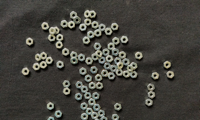nut: (41, 22, 50, 30), (22, 68, 30, 76), (26, 38, 34, 46), (40, 52, 48, 60), (49, 27, 57, 35), (56, 34, 64, 42), (62, 49, 70, 57), (78, 54, 86, 62), (75, 93, 83, 101), (81, 86, 89, 94), (86, 108, 94, 116), (93, 104, 101, 112), (98, 110, 106, 118), (83, 37, 91, 45), (106, 55, 114, 63), (105, 28, 113, 36), (111, 23, 119, 31), (121, 36, 129, 44), (119, 51, 127, 59), (123, 71, 131, 79), (167, 71, 175, 79), (74, 16, 81, 25), (70, 11, 77, 20), (92, 53, 99, 62), (47, 103, 54, 111), (55, 111, 63, 118), (35, 54, 42, 62), (46, 57, 53, 65), (63, 88, 71, 95), (63, 81, 71, 88), (57, 61, 64, 69), (48, 35, 56, 42), (61, 20, 68, 28), (68, 21, 75, 29), (71, 57, 78, 65), (70, 52, 78, 59), (76, 82, 84, 89), (84, 93, 92, 100), (81, 103, 88, 111), (81, 113, 89, 120), (80, 68, 87, 76), (79, 24, 87, 31), (89, 82, 96, 90), (96, 83, 104, 90), (91, 113, 99, 120), (115, 103, 122, 111), (85, 75, 92, 83), (95, 75, 103, 82), (84, 19, 92, 26), (85, 10, 92, 18), (88, 31, 95, 39), (92, 21, 99, 29), (95, 29, 102, 37), (99, 24, 106, 32), (96, 50, 103, 58), (94, 43, 102, 50), (99, 57, 106, 65), (104, 63, 112, 70), (108, 73, 116, 80), (110, 66, 118, 73), (108, 43, 115, 51), (113, 37, 120, 45), (112, 49, 120, 56), (115, 57, 122, 65), (116, 69, 124, 76), (117, 62, 124, 70), (131, 62, 138, 70), (130, 72, 138, 79), (136, 52, 143, 60), (146, 99, 153, 107), (148, 92, 156, 99), (148, 84, 155, 92), (152, 73, 160, 80), (164, 61, 171, 69), (33, 64, 40, 71), (40, 62, 47, 69), (53, 27, 60, 34), (56, 42, 63, 49), (93, 93, 100, 100), (89, 99, 96, 106), (86, 58, 93, 65), (91, 67, 98, 74), (90, 11, 97, 18), (102, 70, 109, 77), (103, 49, 110, 56), (123, 59, 130, 66), (127, 65, 134, 72), (112, 115, 120, 120), (48, 117, 55, 120), (101, 117, 108, 120), (94, 119, 101, 120)
